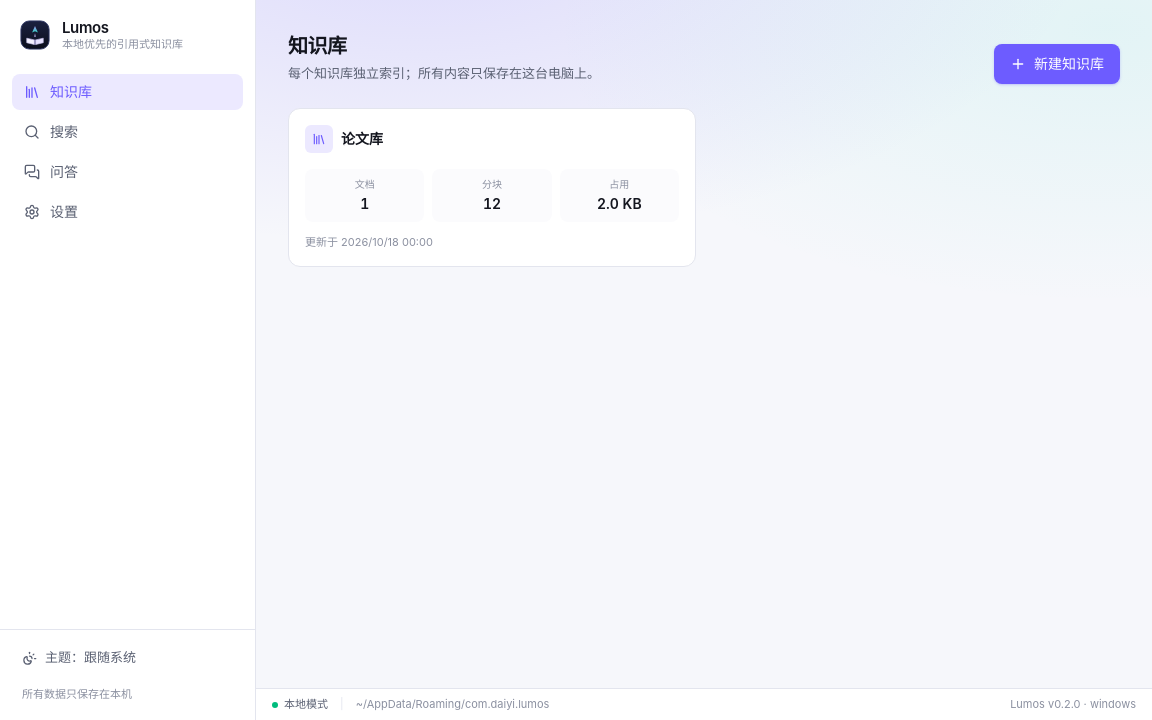
Test: 知识库 › 打开知识库后展示文档列表
The image size is (1152, 720).
Expected: the heading "论文库" is shown, [341,128,383,148]
Click the button "论文库 文档 1 分块 12 占用 2.0 KB 更新于 2026/10/18 00:00": [492, 187] box [288,108,696,267]
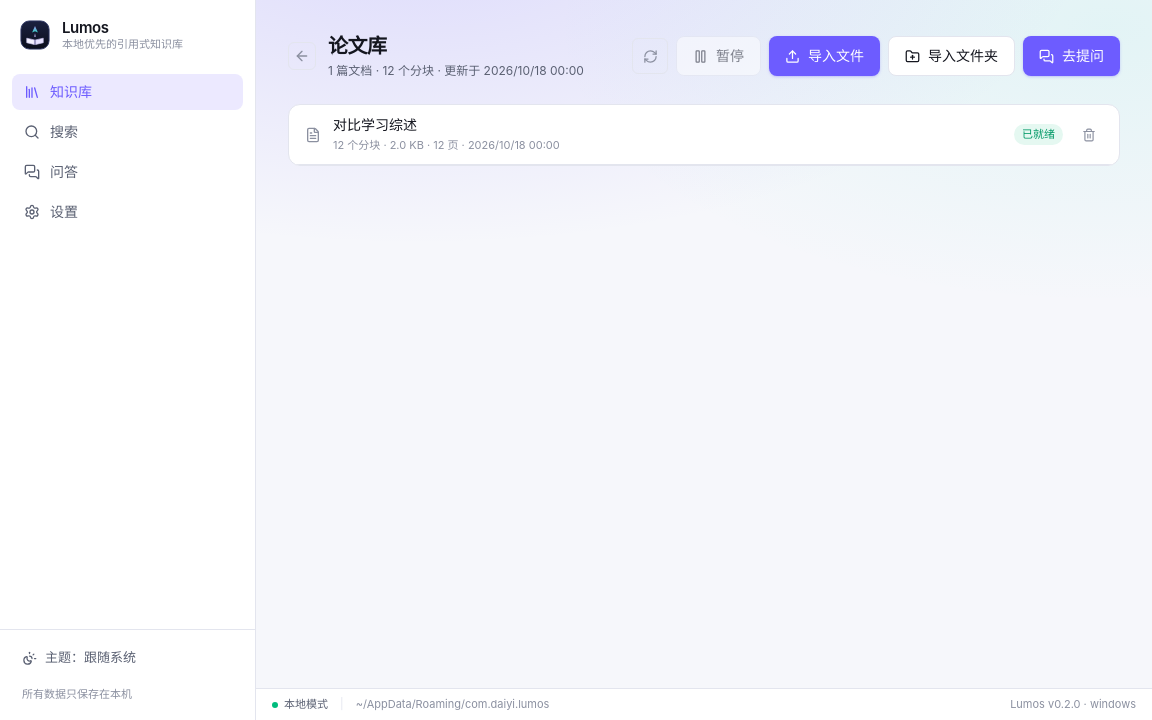
Now the text "对比学习综述" is shown, box [333,116,417,133]
Now the text "已就绪" is shown, box [1014,124,1063,145]
